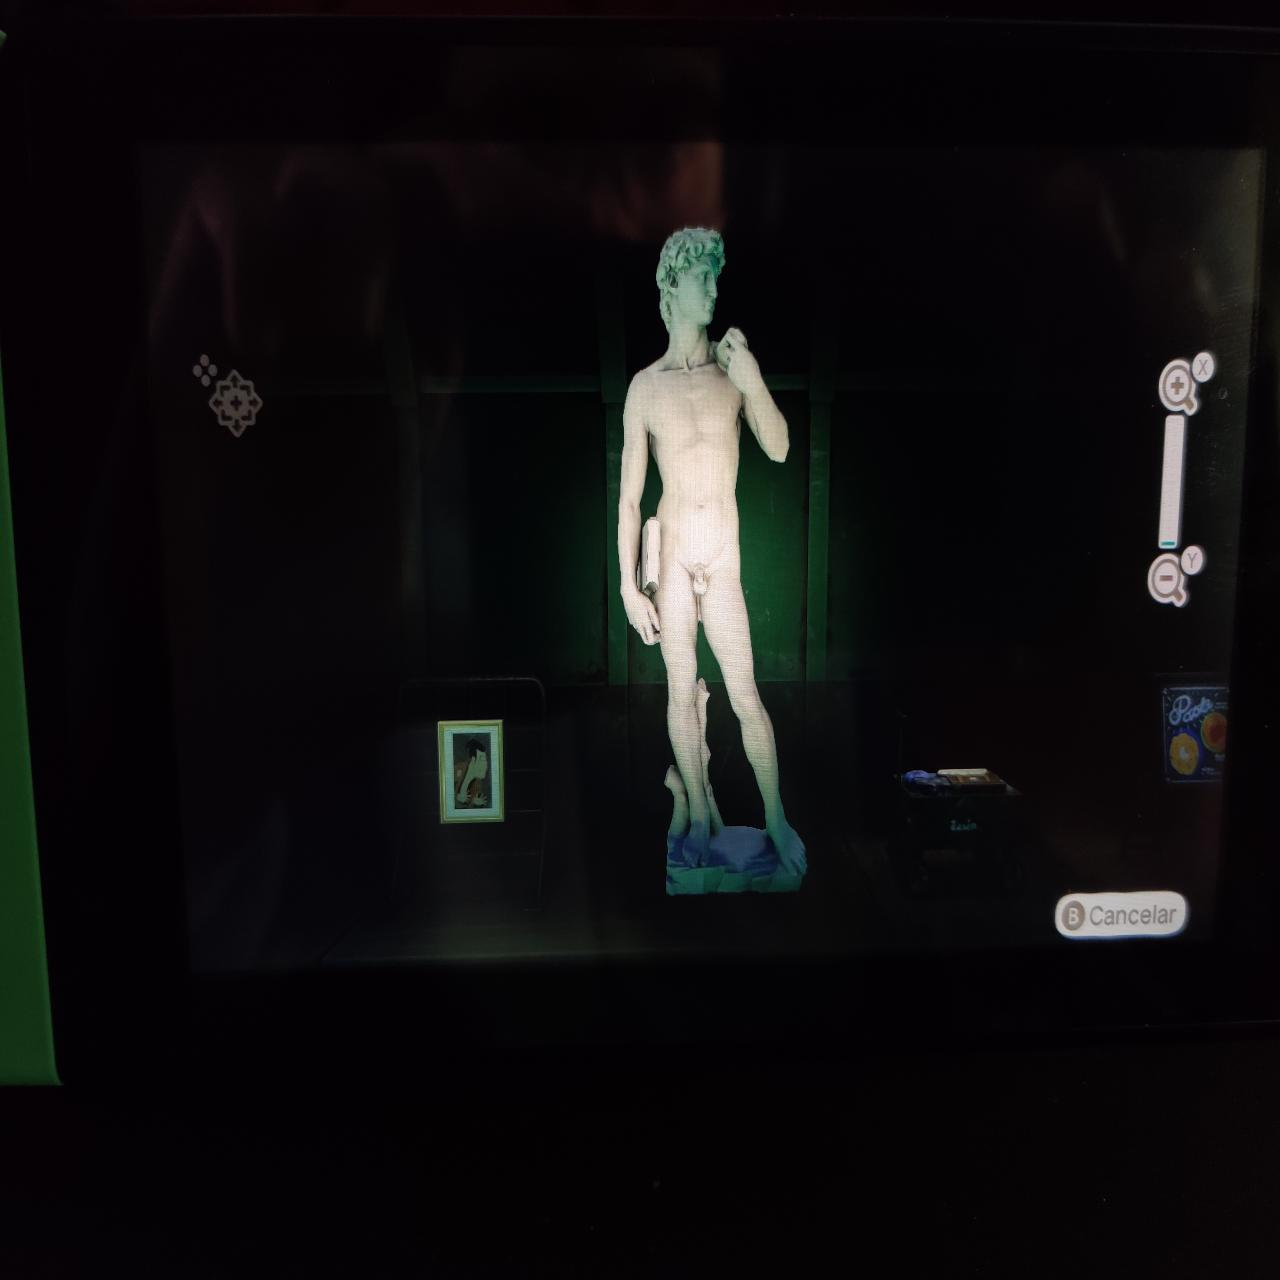DavidFake: (618, 219, 817, 907)
OotaniOnijiFake: (455, 735, 492, 812)
